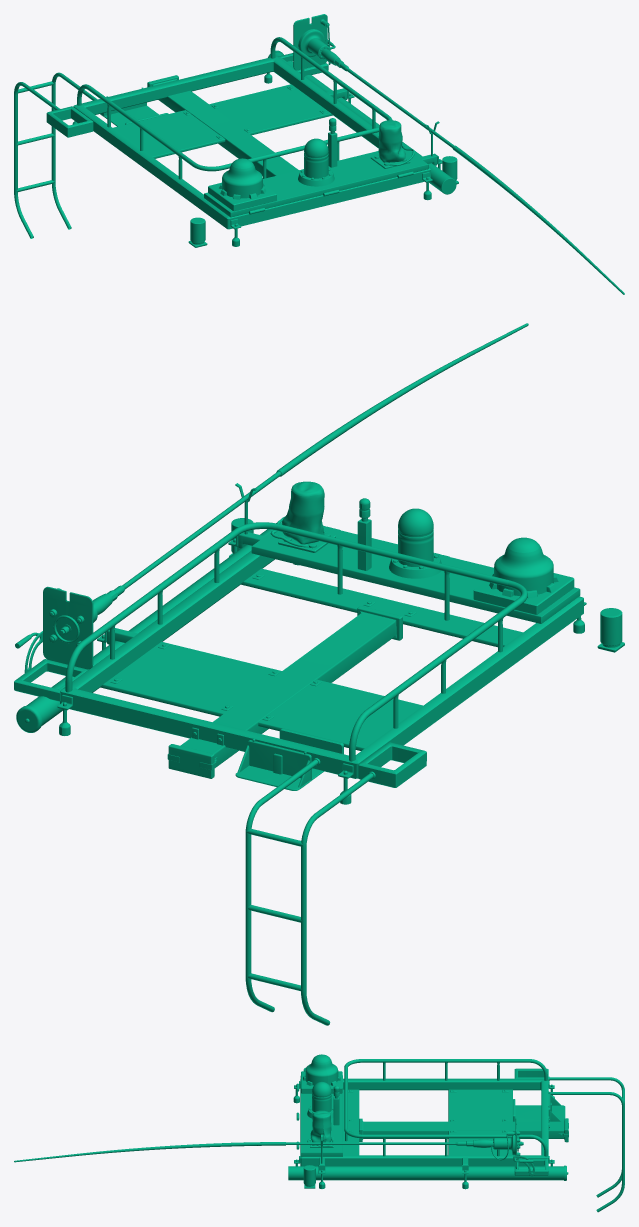
The model's file is FHXY_02BX_A3_CheDing_MD_low1.fbx.
The picture shows the model from 3 angles, top to bottom: view 1: azimuth 30°, elevation 25°; view 2: azimuth 150°, elevation 25°; view 3: azimuth 270°, elevation 25°; orthographic projection. The views are drawn at different scales.
Parts seen in each view (by area): view 1: FHXY_02BX_A3_CheDing_MD_L_20, FHXY_02BX_A3_CheDing_MD_L_3, FHXY_02BX_A3_CheDing_MD_L_6, FHXY_02BX_A3_CheDing_MD_L_7, FHXY_02BX_A3_CheDing_MD_L_10, FHXY_02BX_A3_CheDing_MD_L_2, FHXY_02BX_A3_CheDing_MD_L_17, FHXY_02BX_A3_CheDing_MD_L_11, FHXY_02BX_A3_CheDing_MD_L_16, FHXY_02BX_A3_CheDing_MD_L_1, FHXY_02BX_A3_CheDing_MD_L_13, FHXY_02BX_A3_CheDing_MD_L_12 (+3 smaller); view 2: FHXY_02BX_A3_CheDing_MD_L_20, FHXY_02BX_A3_CheDing_MD_L_3, FHXY_02BX_A3_CheDing_MD_L_2, FHXY_02BX_A3_CheDing_MD_L_10, FHXY_02BX_A3_CheDing_MD_L_7, FHXY_02BX_A3_CheDing_MD_L_6, FHXY_02BX_A3_CheDing_MD_L_11, FHXY_02BX_A3_CheDing_MD_L_17, FHXY_02BX_A3_CheDing_MD_L_9, FHXY_02BX_A3_CheDing_MD_L_1, FHXY_02BX_A3_CheDing_MD_L_16, FHXY_02BX_A3_CheDing_MD_L_13 (+3 smaller); view 3: FHXY_02BX_A3_CheDing_MD_L_20, FHXY_02BX_A3_CheDing_MD_L_3, FHXY_02BX_A3_CheDing_MD_L_1, FHXY_02BX_A3_CheDing_MD_L_10, FHXY_02BX_A3_CheDing_MD_L_7, FHXY_02BX_A3_CheDing_MD_L_2, FHXY_02BX_A3_CheDing_MD_L_6, FHXY_02BX_A3_CheDing_MD_L_17, FHXY_02BX_A3_CheDing_MD_L_11, FHXY_02BX_A3_CheDing_MD_L_9, FHXY_02BX_A3_CheDing_MD_L_16, FHXY_02BX_A3_CheDing_MD_L_13 (+3 smaller).
Boxes of the visible parts, x1,y1,x2,y2 form: FHXY_02BX_A3_CheDing_MD_L_20: (46,53,437,229); FHXY_02BX_A3_CheDing_MD_L_3: (113,84,332,158); FHXY_02BX_A3_CheDing_MD_L_6: (204,145,428,217); FHXY_02BX_A3_CheDing_MD_L_7: (293,14,624,294); FHXY_02BX_A3_CheDing_MD_L_10: (149,76,298,177); FHXY_02BX_A3_CheDing_MD_L_2: (77,37,392,179); FHXY_02BX_A3_CheDing_MD_L_17: (208,158,276,211); FHXY_02BX_A3_CheDing_MD_L_11: (14,72,97,238); FHXY_02BX_A3_CheDing_MD_L_16: (298,138,334,186); FHXY_02BX_A3_CheDing_MD_L_1: (268,50,456,194); FHXY_02BX_A3_CheDing_MD_L_13: (378,120,405,162); FHXY_02BX_A3_CheDing_MD_L_12: (188,156,458,247); FHXY_02BX_A3_CheDing_MD_L_20: (14,532,583,787); FHXY_02BX_A3_CheDing_MD_L_3: (100,568,522,750); FHXY_02BX_A3_CheDing_MD_L_2: (65,522,527,761); FHXY_02BX_A3_CheDing_MD_L_10: (172,606,402,775); FHXY_02BX_A3_CheDing_MD_L_7: (15,323,528,672); FHXY_02BX_A3_CheDing_MD_L_6: (251,524,580,623); FHXY_02BX_A3_CheDing_MD_L_11: (245,758,375,1025); FHXY_02BX_A3_CheDing_MD_L_17: (473,537,574,614); FHXY_02BX_A3_CheDing_MD_L_9: (235,728,343,790); FHXY_02BX_A3_CheDing_MD_L_1: (16,522,281,732); FHXY_02BX_A3_CheDing_MD_L_16: (389,508,441,578); FHXY_02BX_A3_CheDing_MD_L_13: (282,481,324,544); FHXY_02BX_A3_CheDing_MD_L_20: (300,1068,548,1176); FHXY_02BX_A3_CheDing_MD_L_3: (343,1089,512,1155); FHXY_02BX_A3_CheDing_MD_L_1: (288,1165,568,1180); FHXY_02BX_A3_CheDing_MD_L_10: (359,1118,565,1141); FHXY_02BX_A3_CheDing_MD_L_7: (14,1118,534,1175); FHXY_02BX_A3_CheDing_MD_L_2: (344,1059,547,1156); FHXY_02BX_A3_CheDing_MD_L_6: (300,1075,342,1156); FHXY_02BX_A3_CheDing_MD_L_17: (301,1054,342,1093); FHXY_02BX_A3_CheDing_MD_L_11: (548,1076,624,1212); FHXY_02BX_A3_CheDing_MD_L_9: (513,1092,565,1121); FHXY_02BX_A3_CheDing_MD_L_16: (307,1081,333,1118); FHXY_02BX_A3_CheDing_MD_L_13: (310,1110,331,1142).
Size of the model in its own units: 176 by 126 by 424.
